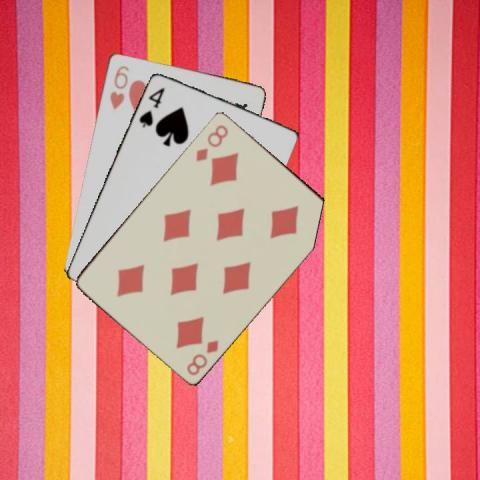4s: (136, 84, 166, 127)
6h: (107, 62, 131, 111)
8d: (183, 336, 220, 377), (193, 121, 229, 163)
